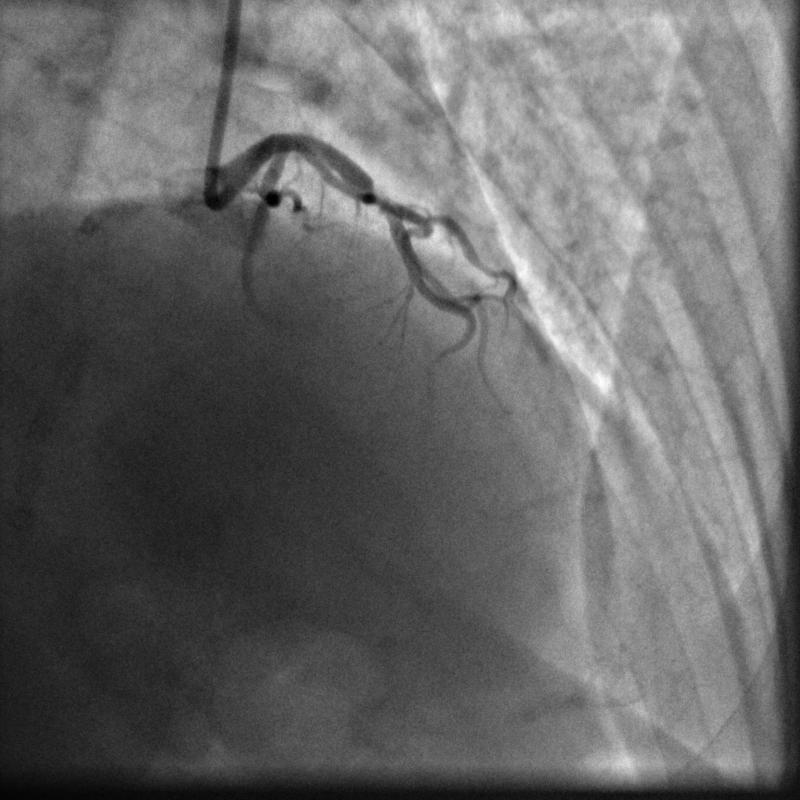Stenosis: (371, 187, 390, 212)
